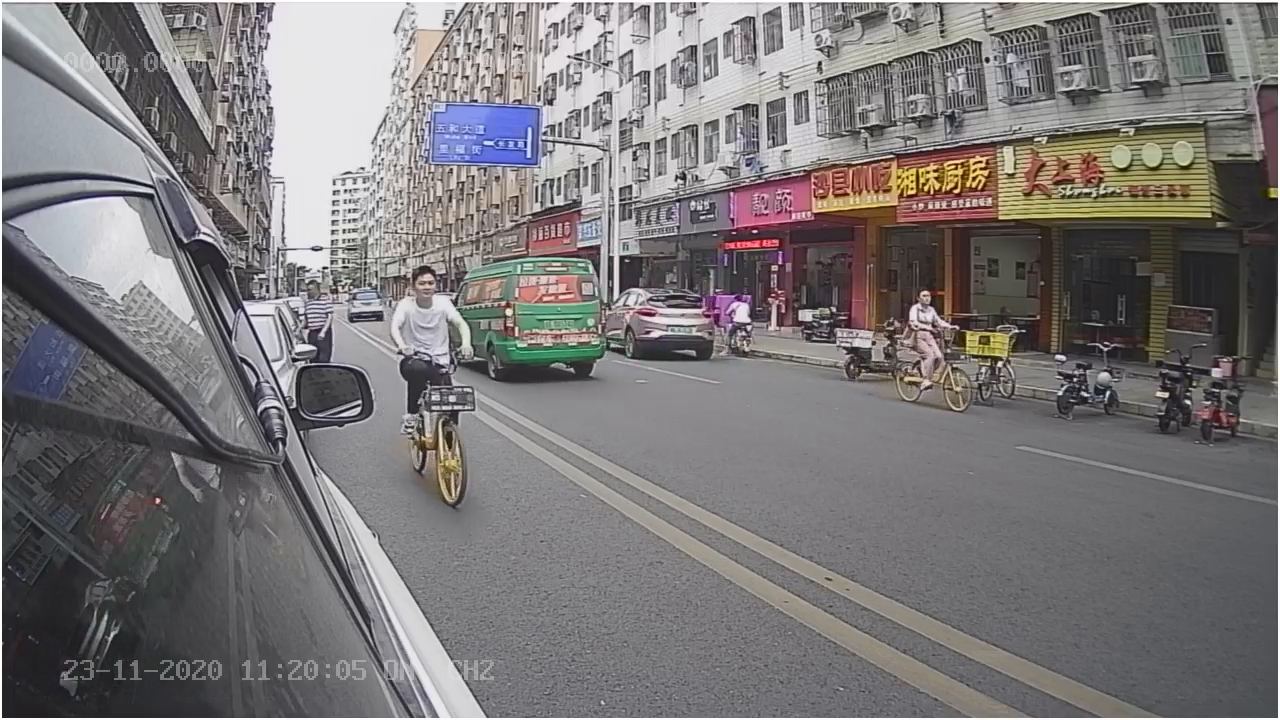person: (384, 263, 476, 362)
